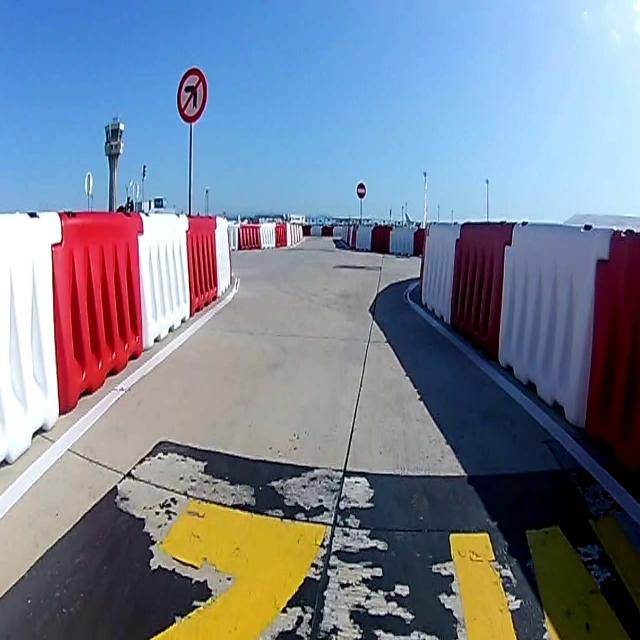girisyok: (356, 180, 366, 200)
soladonulmez: (176, 66, 206, 122)
